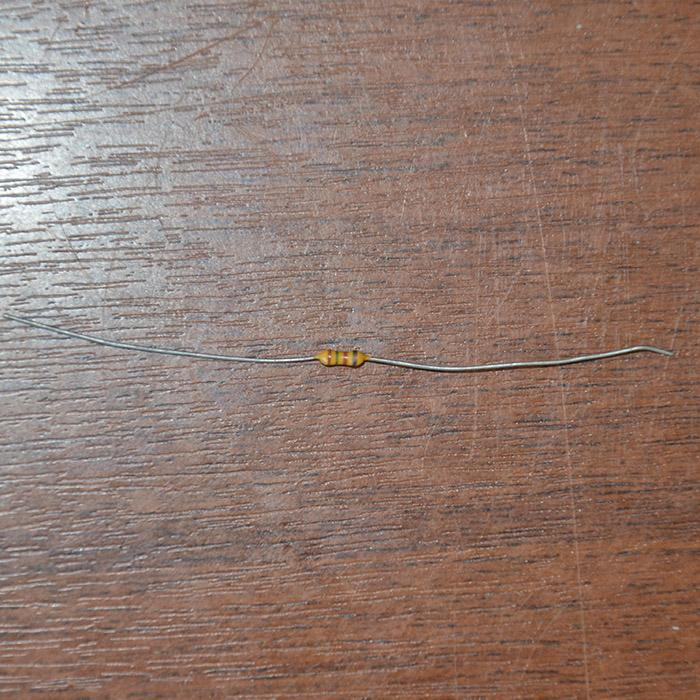resistor: (315, 348, 371, 367)
